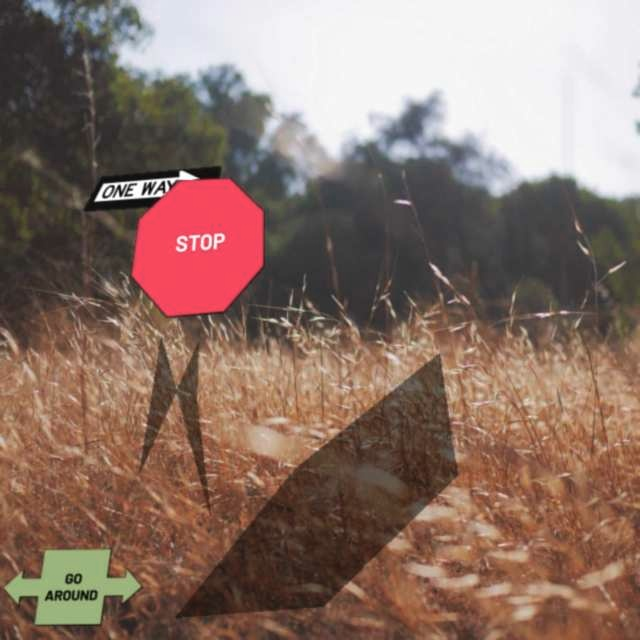GO_AROUND: (2, 548, 143, 626)
ONE_WAY_ right: (81, 165, 222, 212)
STOP: (130, 177, 265, 318)
